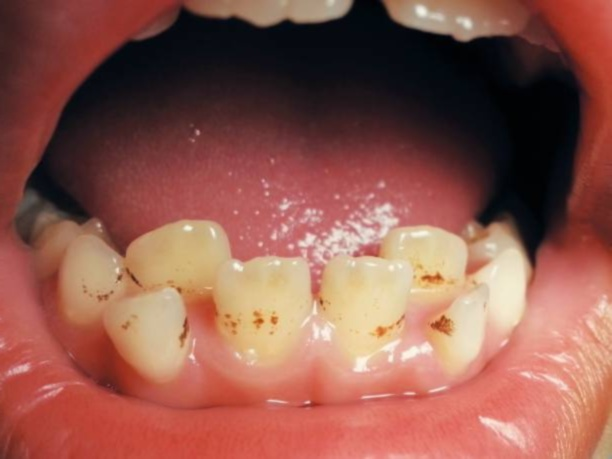Tooth Discoloration: (78, 262, 141, 304), (210, 302, 292, 334), (419, 310, 457, 338), (371, 308, 407, 337), (175, 308, 194, 354), (113, 308, 142, 337), (413, 261, 447, 285)
